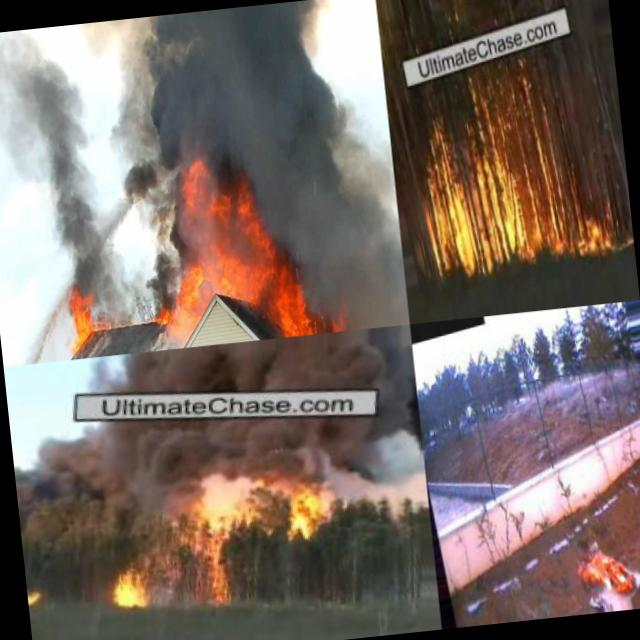fire: (417, 115, 616, 274), (150, 140, 306, 342), (572, 541, 634, 602), (62, 264, 99, 358), (276, 485, 328, 543), (197, 538, 233, 607), (41, 558, 88, 609)
smoke: (274, 28, 407, 309), (0, 21, 124, 287), (41, 410, 282, 540), (317, 414, 428, 518)
